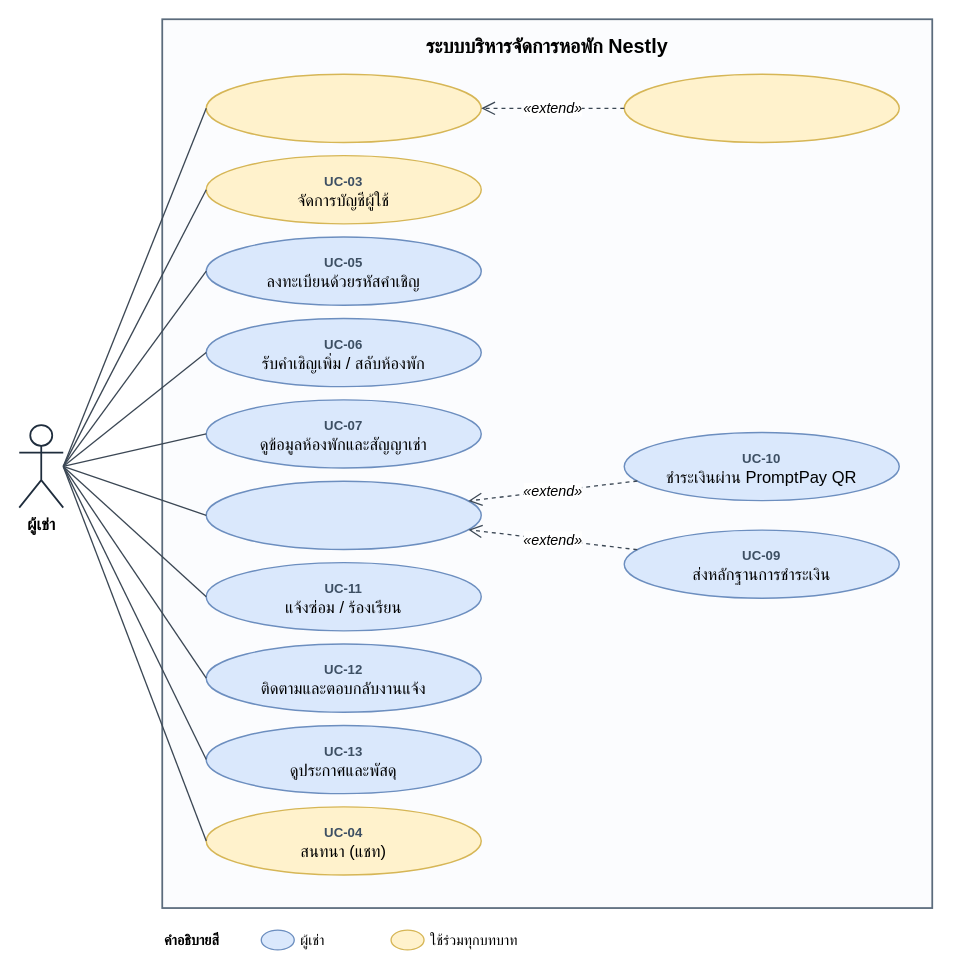
Image size: 953x974. Some labels were removed from this diagram. Each missing label, with the centre of its shape:
"UC-01 เข้าสู่ระบบ" belongs at point (343, 108).
"UC-02 ขอรีเซ็ตรหัสผ่าน" belongs at point (761, 108).
"UC-08 ดูบิลค่าเช่า" belongs at point (343, 515).
